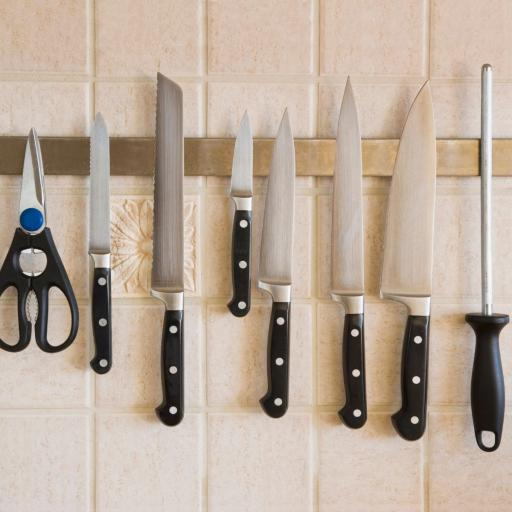knife: (374, 76, 438, 443)
